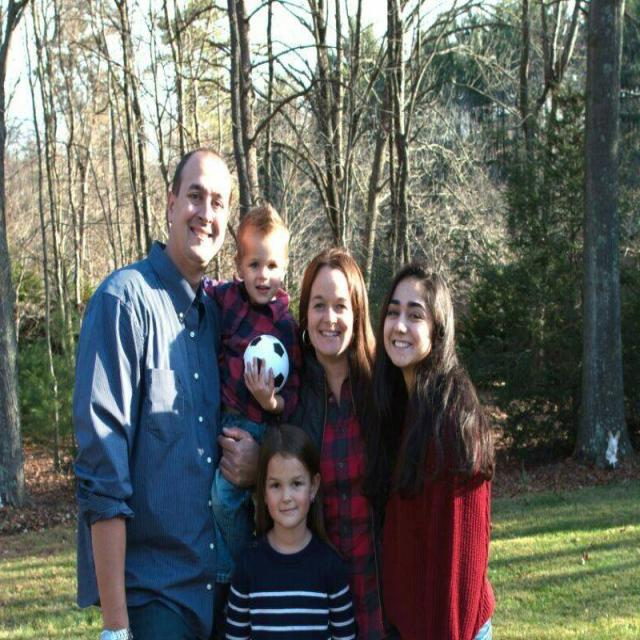adult: (70, 146, 234, 640), (372, 260, 494, 640), (291, 247, 375, 640)
child: (207, 202, 297, 590), (224, 421, 354, 640)
